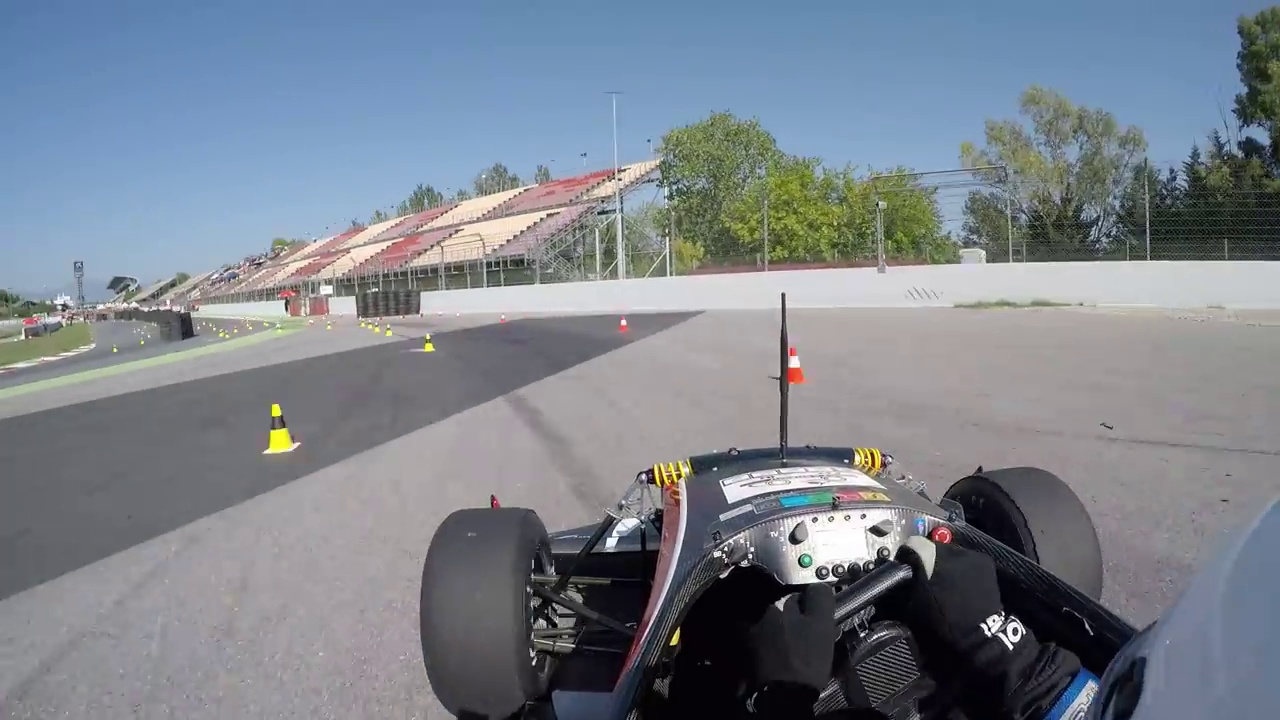Cone: (263, 399, 297, 454), (780, 344, 806, 385)
